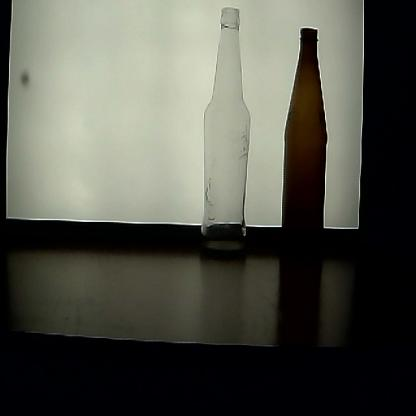Can: (198, 5, 252, 268), (276, 23, 333, 265)
